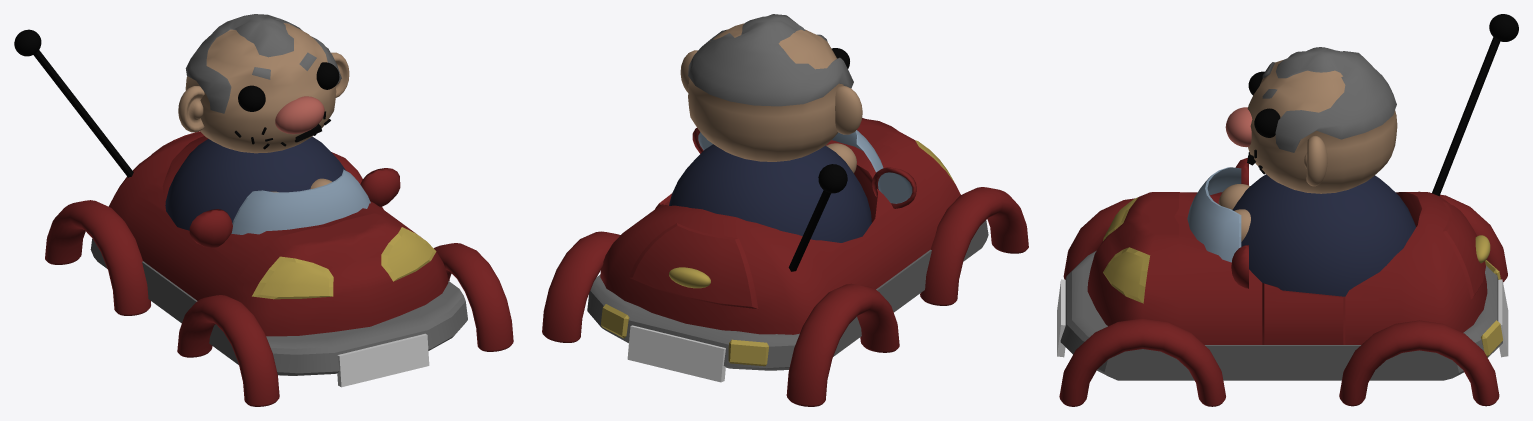
The model's file is SM_CHARACTER_1.fbx.
3 views of the same model, side by side, from view 1: azimuth 30°, elevation 25°; view 2: azimuth 150°, elevation 25°; view 3: azimuth 270°, elevation 25° (orthographic). The views are drawn at different scales.
Parts seen in each view (by area): view 1: SM_CAR1; view 2: SM_CAR1; view 3: SM_CAR1.
Part boxes in pixels (left/top/right/bottom): SM_CAR1: left=14, top=14, right=513, bottom=406; SM_CAR1: left=542, top=14, right=1028, bottom=406; SM_CAR1: left=1057, top=14, right=1518, bottom=406.
Size of the model in its own units: 5.17 by 4.83 by 6.62.
